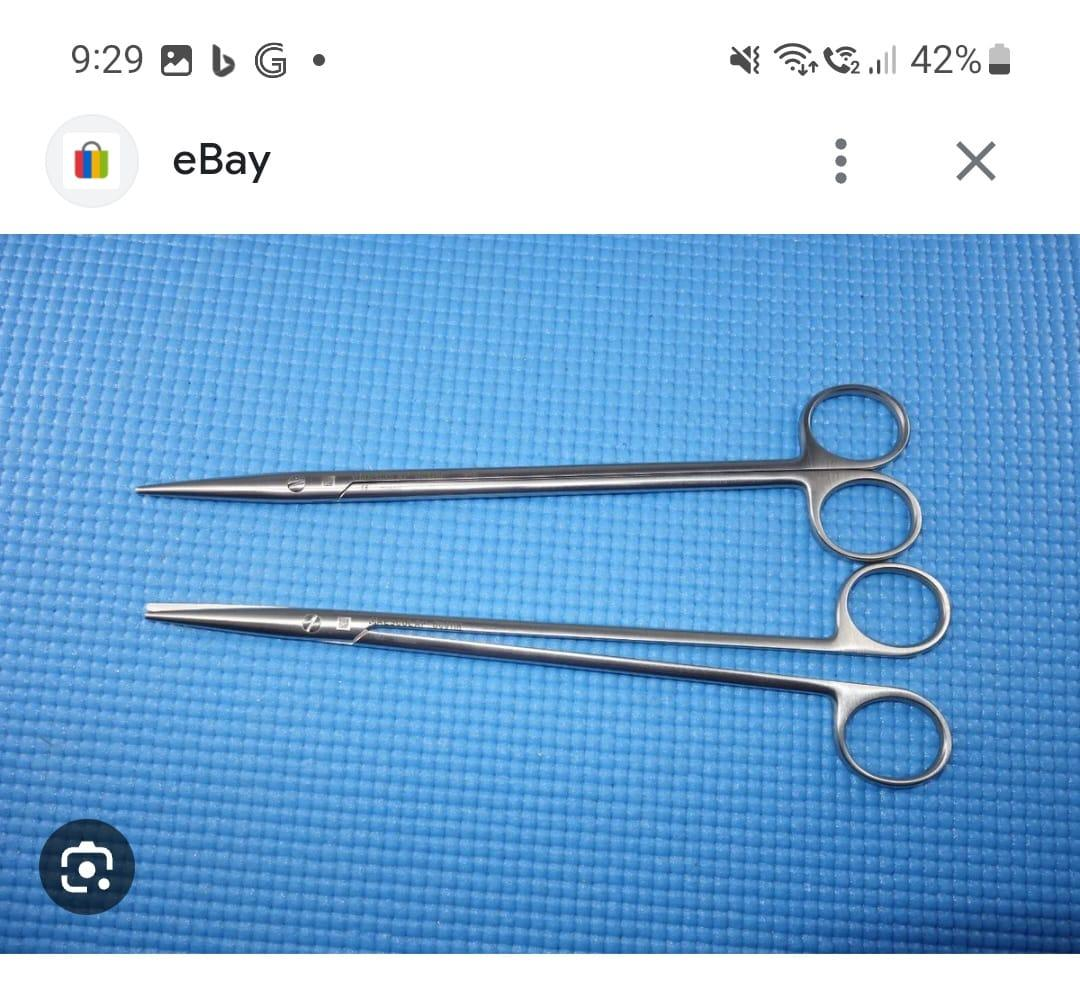Metzenbaum Sciccors: (140, 559, 973, 781), (119, 367, 930, 559)
